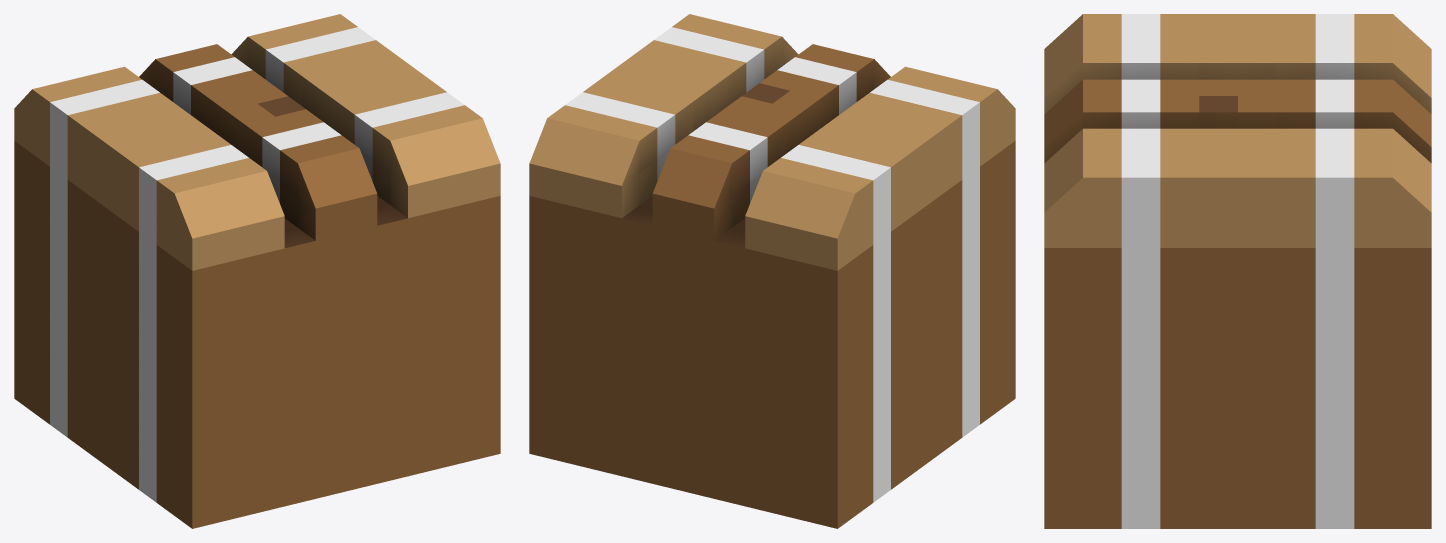
Rendered from wood_tile_voxel_straight.fbx.
3 renders of one model, left to right at view 1: azimuth 30°, elevation 25°; view 2: azimuth 150°, elevation 25°; view 3: azimuth 270°, elevation 25°, orthographic. The views are drawn at different scales.
Parts seen in each view (by area): view 1: Block, Plank3, Plank2, Plank1; view 2: Block, Plank3, Plank2, Plank1; view 3: Block, Plank2, Plank3, Plank1.
Boxes of the visible parts, bbox=[...] form: Block: bbox=[14, 141, 500, 528]; Plank3: bbox=[14, 66, 284, 270]; Plank2: bbox=[231, 14, 500, 218]; Plank1: bbox=[139, 44, 377, 240]; Block: bbox=[529, 141, 1015, 528]; Plank3: bbox=[745, 66, 1015, 270]; Plank2: bbox=[529, 14, 798, 218]; Plank1: bbox=[652, 44, 890, 240]; Block: bbox=[1044, 248, 1431, 528]; Plank2: bbox=[1044, 128, 1431, 247]; Plank3: bbox=[1044, 14, 1431, 113]; Plank1: bbox=[1044, 79, 1431, 163].
Bounding box in the file's own units: 100 × 100 × 100.
